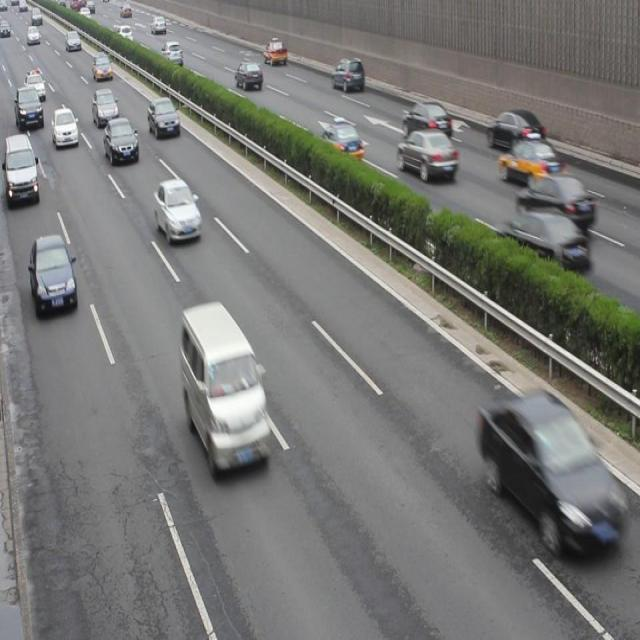car: (478, 387, 614, 554), (500, 206, 587, 276), (516, 171, 595, 233), (30, 234, 75, 316), (497, 136, 562, 191), (396, 127, 457, 184), (154, 178, 201, 244), (484, 108, 544, 154), (400, 97, 452, 146), (316, 120, 363, 166), (104, 114, 139, 167), (147, 96, 180, 140), (330, 54, 365, 94), (52, 106, 79, 150), (93, 89, 119, 128), (234, 61, 263, 92)
truck: (181, 301, 270, 476), (1, 133, 39, 204)
